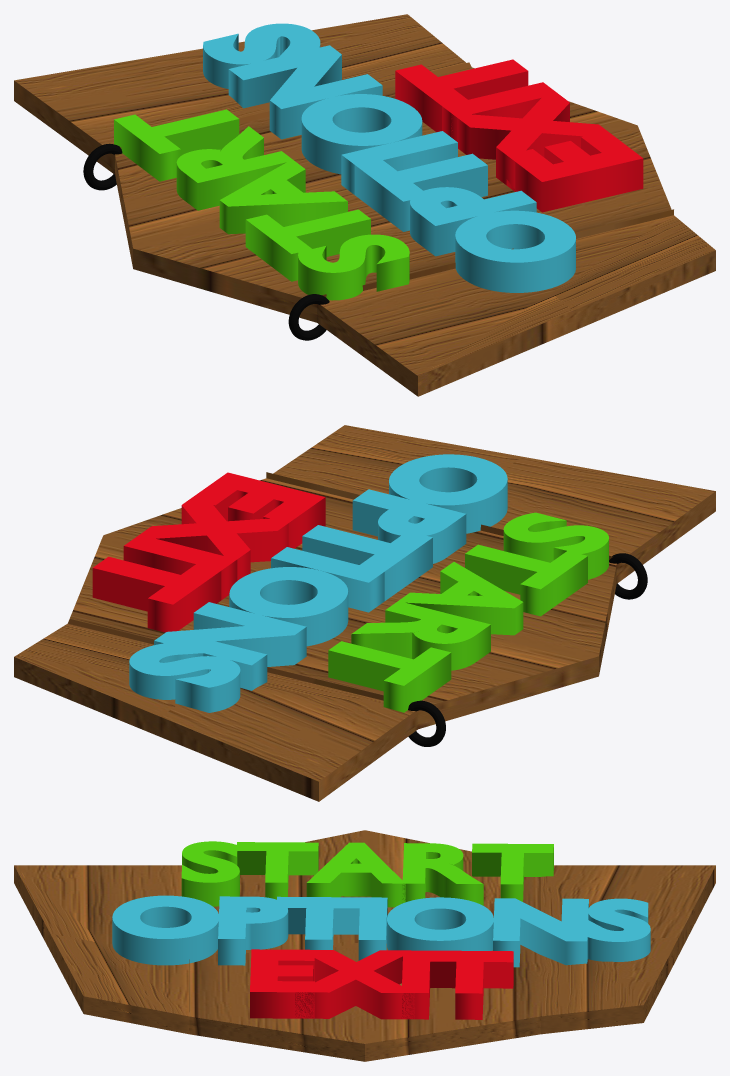
Rendered from sign.fbx.
3 views of the same model, one above another, from view 1: azimuth 30°, elevation 25°; view 2: azimuth 150°, elevation 25°; view 3: azimuth 270°, elevation 25° (orthographic). The views are drawn at different scales.
Parts seen in each view (by area): view 1: Cube, Text.001, Text, Text.002, Torus, Torus.001; view 2: Cube, Text.001, Text, Text.002, Torus.001, Torus; view 3: Cube, Text.001, Text, Text.002.
Boxes of the visible parts, bbox=[...] form: Cube: bbox=[14, 14, 715, 396]; Text.001: bbox=[203, 23, 575, 292]; Text: bbox=[114, 109, 409, 300]; Text.002: bbox=[395, 59, 643, 212]; Torus: bbox=[288, 294, 329, 340]; Torus.001: bbox=[83, 143, 122, 190]; Cube: bbox=[14, 425, 715, 801]; Text.001: bbox=[129, 454, 507, 712]; Text: bbox=[328, 512, 608, 712]; Text.002: bbox=[92, 472, 325, 632]; Torus.001: bbox=[408, 700, 445, 746]; Torus: bbox=[609, 553, 647, 599]; Cube: bbox=[14, 830, 715, 1061]; Text.001: bbox=[112, 895, 650, 967]; Text: bbox=[181, 841, 553, 907]; Text.002: bbox=[250, 949, 513, 1019].
Size of the model in its own units: 403 by 49.61 by 559.
